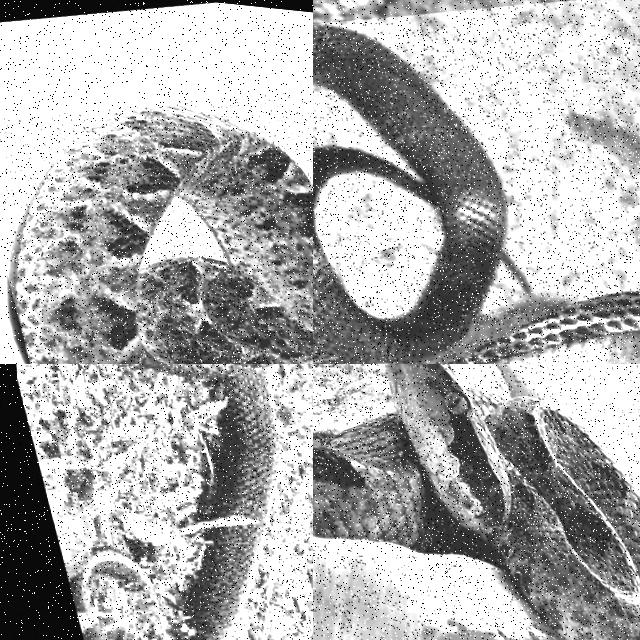Calloselasma rhodostoma: (313, 364, 639, 639), (15, 105, 312, 363)
Naja kaouthia: (313, 24, 506, 363), (141, 364, 279, 639)
snake: (313, 364, 639, 639), (15, 105, 312, 363), (313, 24, 506, 363), (141, 364, 279, 639)
